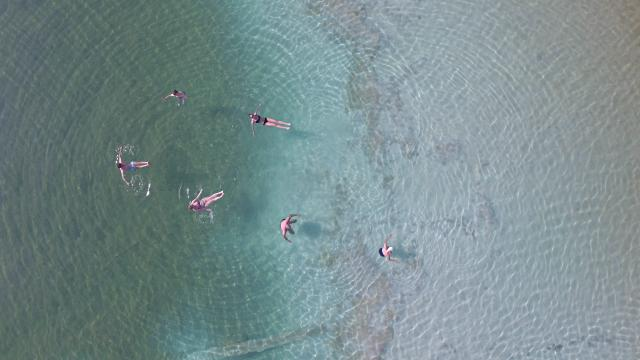human: (248, 102, 291, 134), (118, 146, 150, 186), (188, 188, 225, 218), (377, 234, 400, 264), (280, 214, 300, 242), (164, 88, 187, 103)
